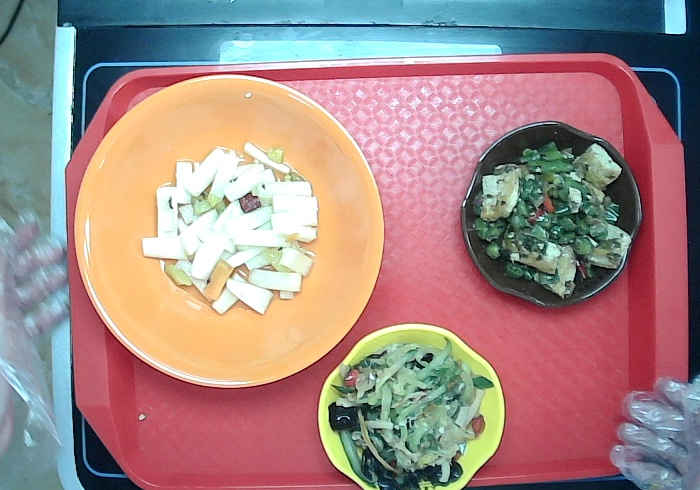YKMZ-Huang_Se_Ao_Bian_Wan: (317, 324, 506, 490)
YKMZ-Ju_Se_Tang_Wan: (71, 74, 384, 392)
YKMZ-Ka_Fei_Ao_Bian_Wan: (460, 119, 645, 309)
